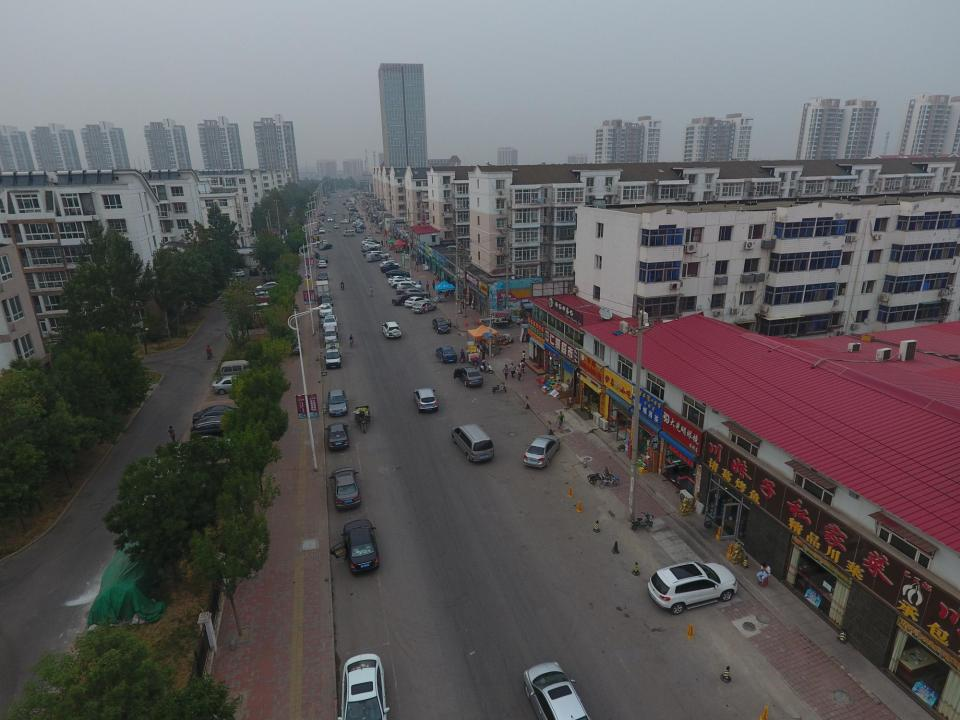car: (648, 561, 737, 615), (523, 661, 590, 720), (338, 654, 390, 720), (329, 519, 379, 575), (329, 466, 360, 510), (524, 434, 559, 468), (190, 417, 243, 438), (193, 404, 245, 425), (212, 375, 255, 394), (187, 436, 232, 454), (324, 423, 349, 450), (326, 388, 348, 417), (413, 388, 438, 413), (454, 367, 482, 387), (436, 346, 458, 362), (382, 322, 401, 339), (396, 285, 425, 296), (254, 285, 279, 297), (404, 288, 430, 299), (390, 278, 416, 289), (433, 318, 452, 333), (404, 296, 429, 307), (412, 302, 436, 313), (322, 315, 338, 331), (391, 295, 414, 306), (256, 282, 284, 291), (397, 282, 422, 292), (388, 276, 412, 286), (250, 297, 276, 306), (251, 292, 277, 300), (385, 270, 410, 278), (318, 303, 332, 317), (318, 295, 333, 307), (380, 261, 400, 269), (381, 264, 399, 272), (370, 251, 390, 258), (228, 269, 244, 277), (228, 278, 240, 288), (363, 251, 380, 257), (364, 242, 380, 248), (248, 266, 258, 275), (318, 272, 328, 281), (364, 247, 378, 253), (366, 240, 380, 246), (319, 254, 328, 263), (317, 260, 327, 268), (319, 244, 332, 250), (362, 239, 374, 245), (388, 257, 396, 264), (360, 245, 368, 252), (364, 234, 372, 240), (355, 228, 362, 234), (340, 219, 348, 224), (314, 241, 320, 247), (322, 239, 328, 245), (366, 237, 372, 243), (319, 228, 325, 233), (327, 217, 333, 221), (333, 224, 339, 228)
truck: (324, 342, 341, 369), (315, 280, 330, 300)
van: (452, 423, 494, 463), (220, 359, 258, 379), (286, 330, 302, 354), (245, 302, 270, 317), (262, 268, 284, 282), (323, 326, 337, 345), (366, 253, 382, 262), (344, 230, 355, 237)
